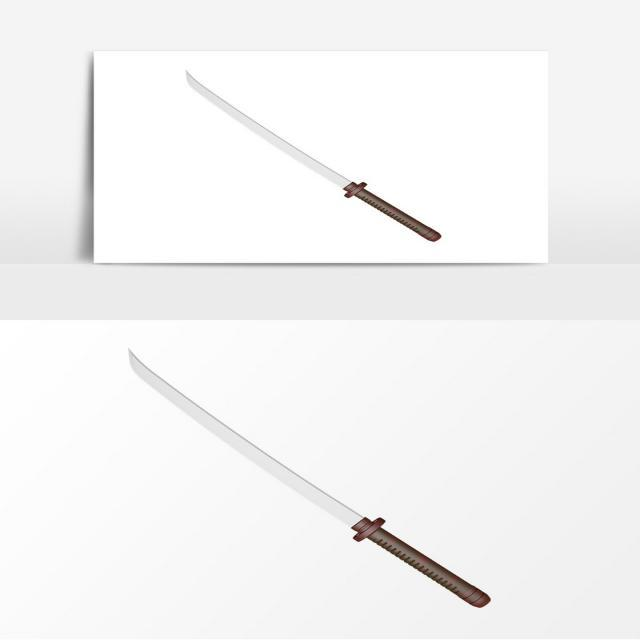long sword: (111, 350, 522, 612), (176, 65, 460, 238)
